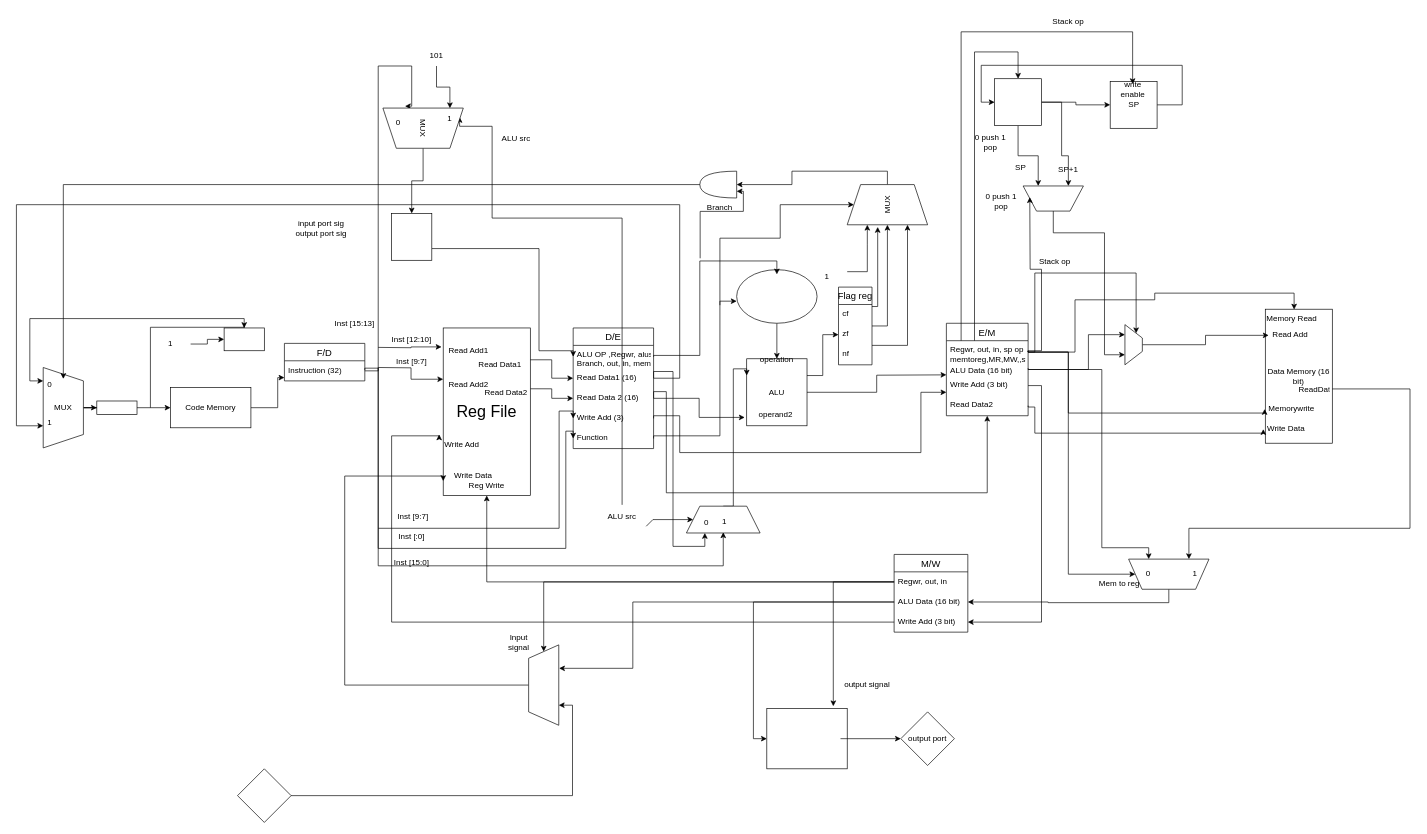
Image size: 1427x834. Some labels were removed from this diagram. Each missing label, with the centre of its shape:
ADD: the point at 243,339
Adder or subtractor by 1: the point at 1018,102
ALU Control: the point at 776,296
CU: the point at 411,236
Input port: the point at 264,795
PC (32): the point at 116,407
tri state buffer: the point at 806,738
